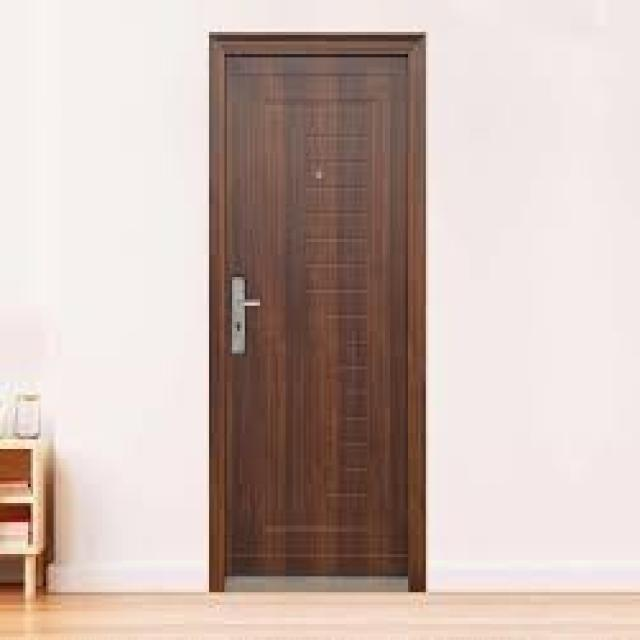door: (209, 32, 426, 592)
